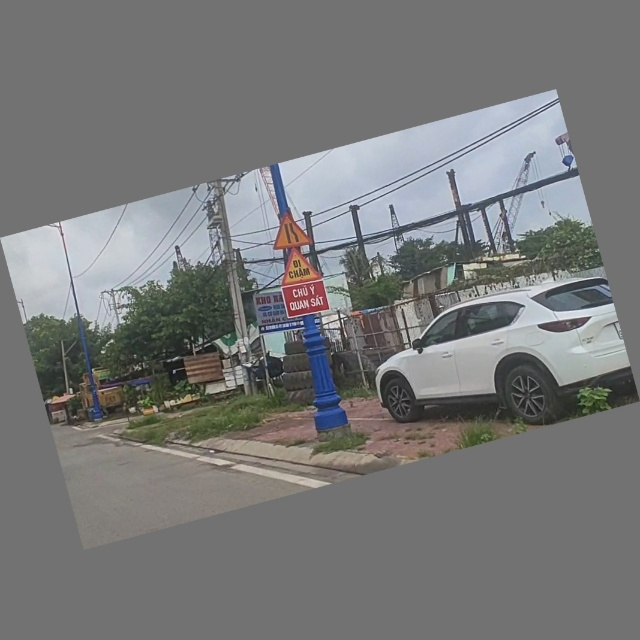W.203c: (265, 208, 313, 253)
W.245a: (272, 243, 323, 290)
